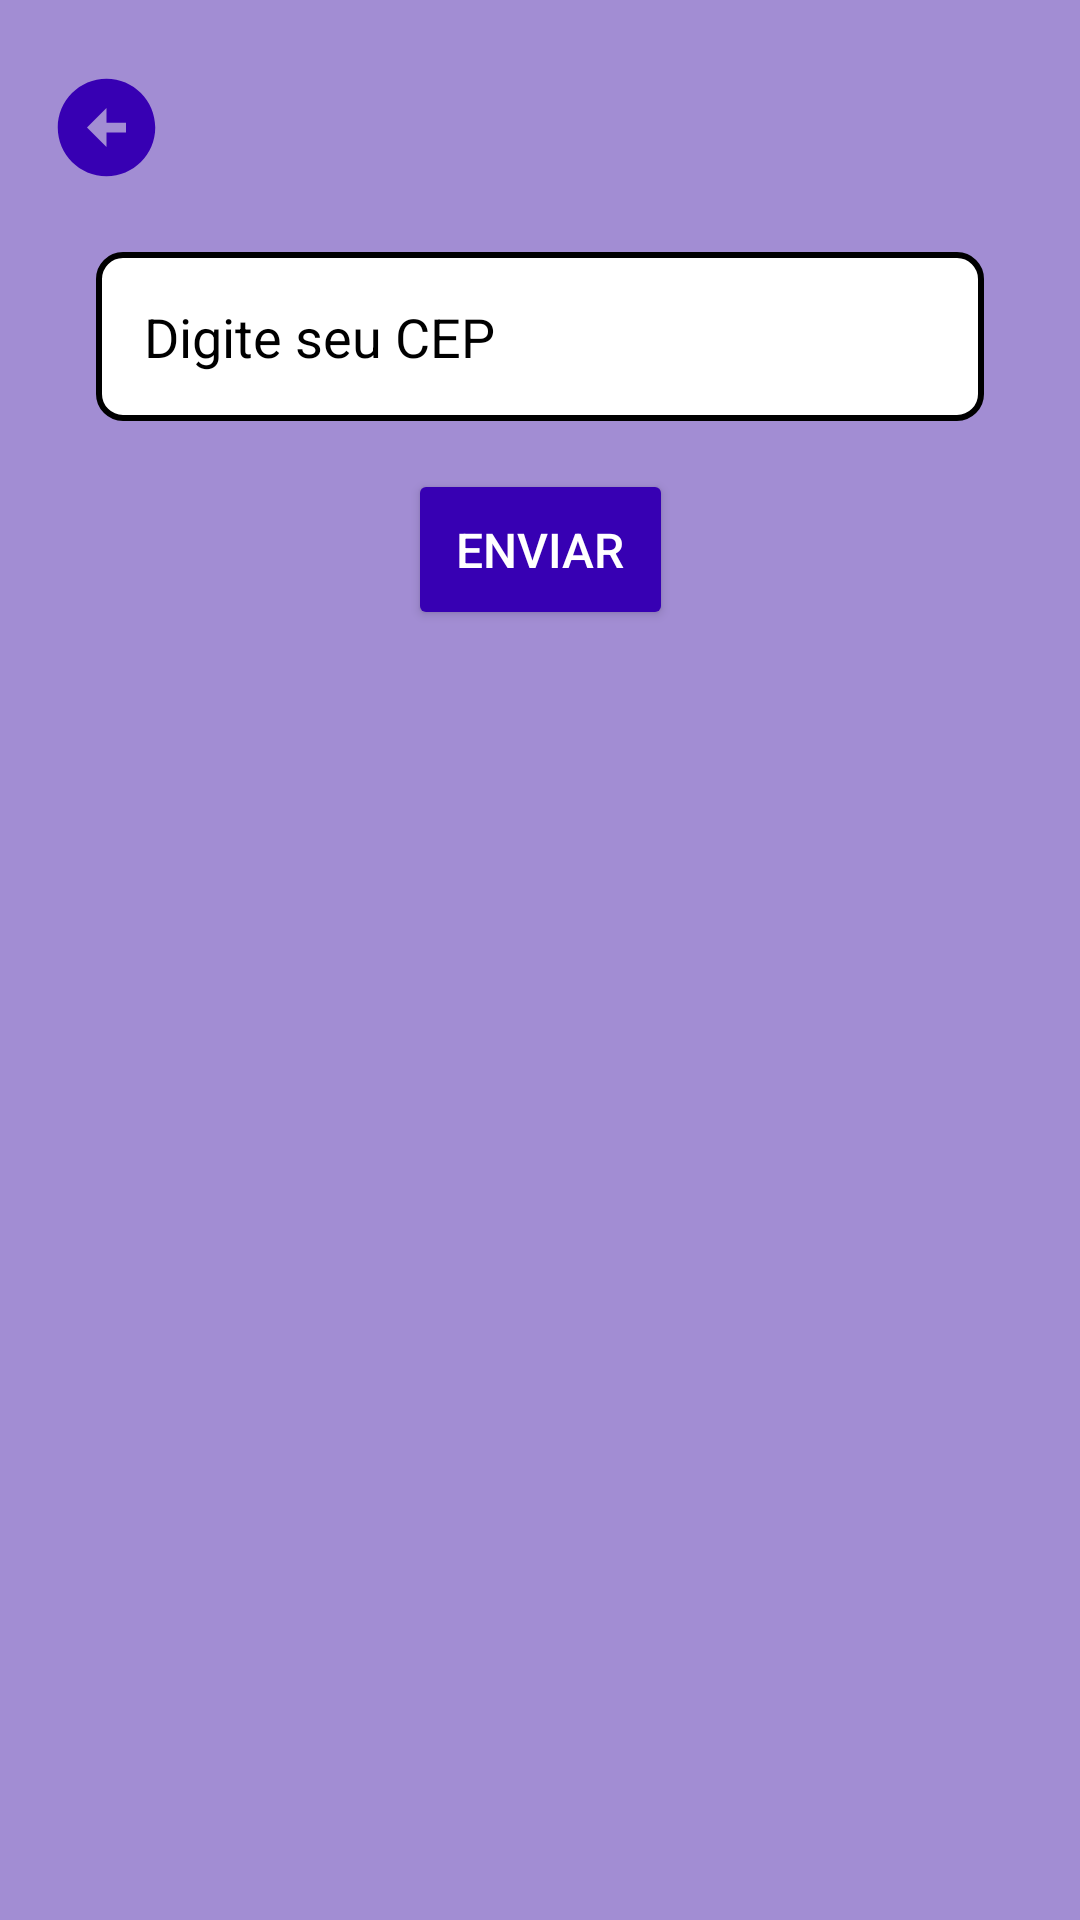

Icon bounding boxes for this 1080*1920 phone screenshot, format (x1, y1, x2, y2):
Botão de voltar: (57, 78, 156, 177)
